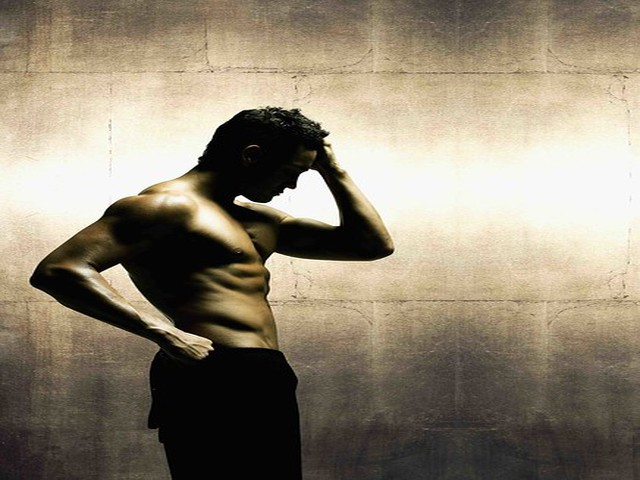Person: (26, 97, 410, 472)
